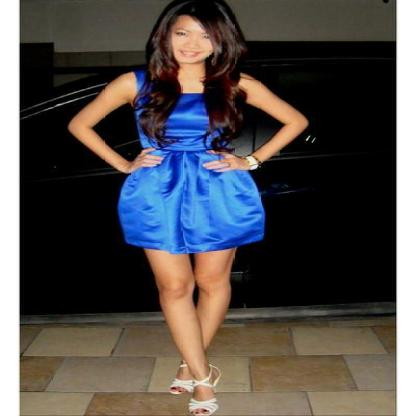shoe: (170, 375, 218, 415)
skirt: (118, 71, 264, 254)
